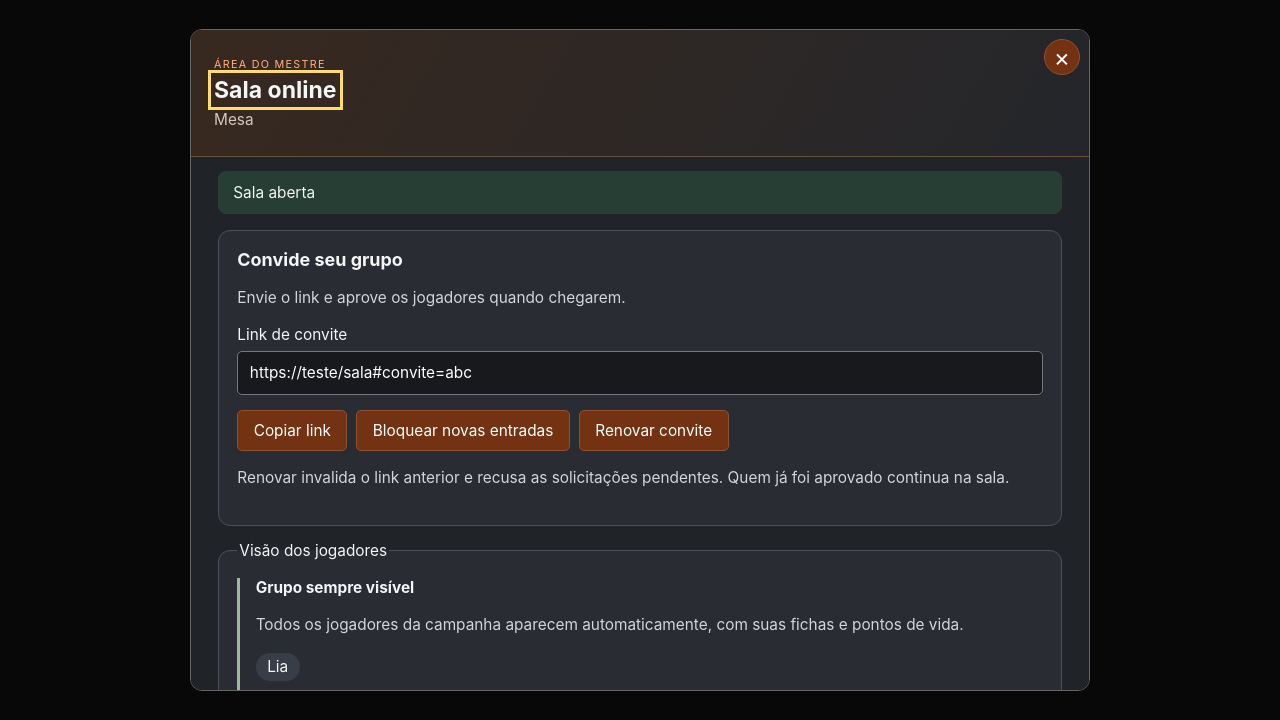
Test case: renovar substitui o convite e mantém a campanha
Expected: the field labelled "Link de convite" is shown, [237,351,1043,395]
Click the button "Renovar convite".
click(654, 430)  # box [579,410,728,451]
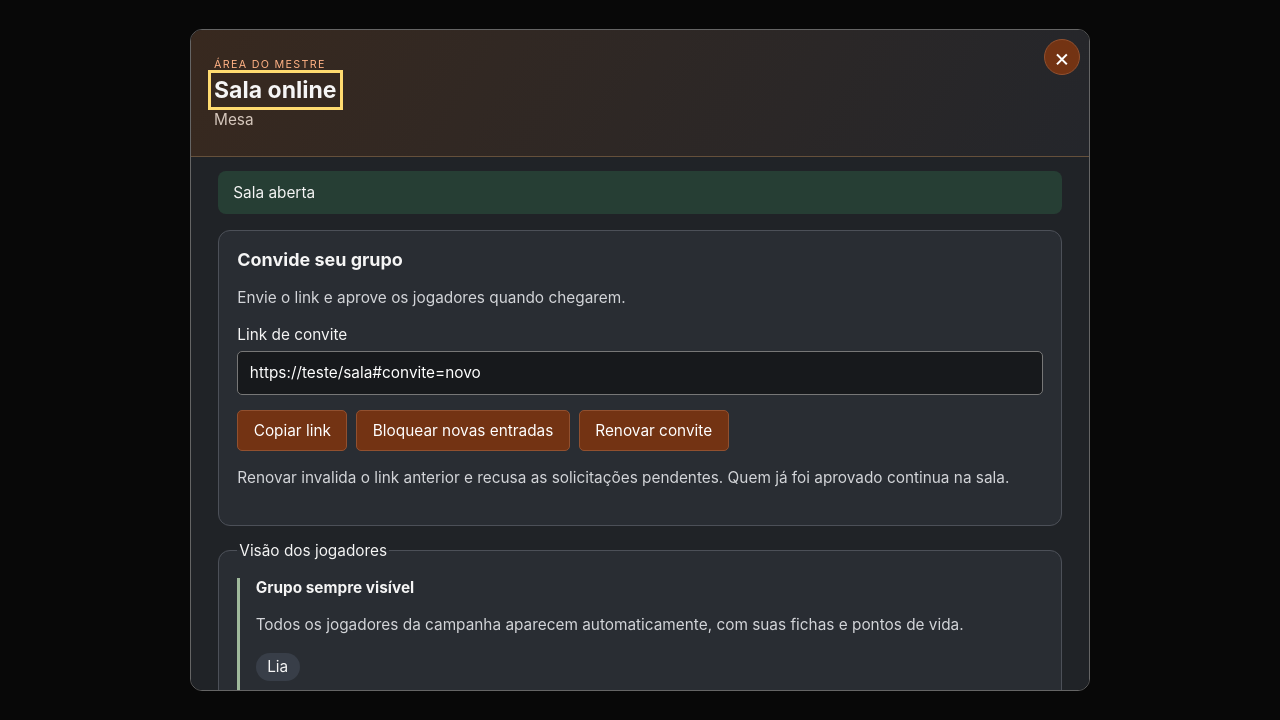
Result: the field labelled "Link de convite" holds "https://teste/sala#convite=novo" at [237,351,1043,395]
